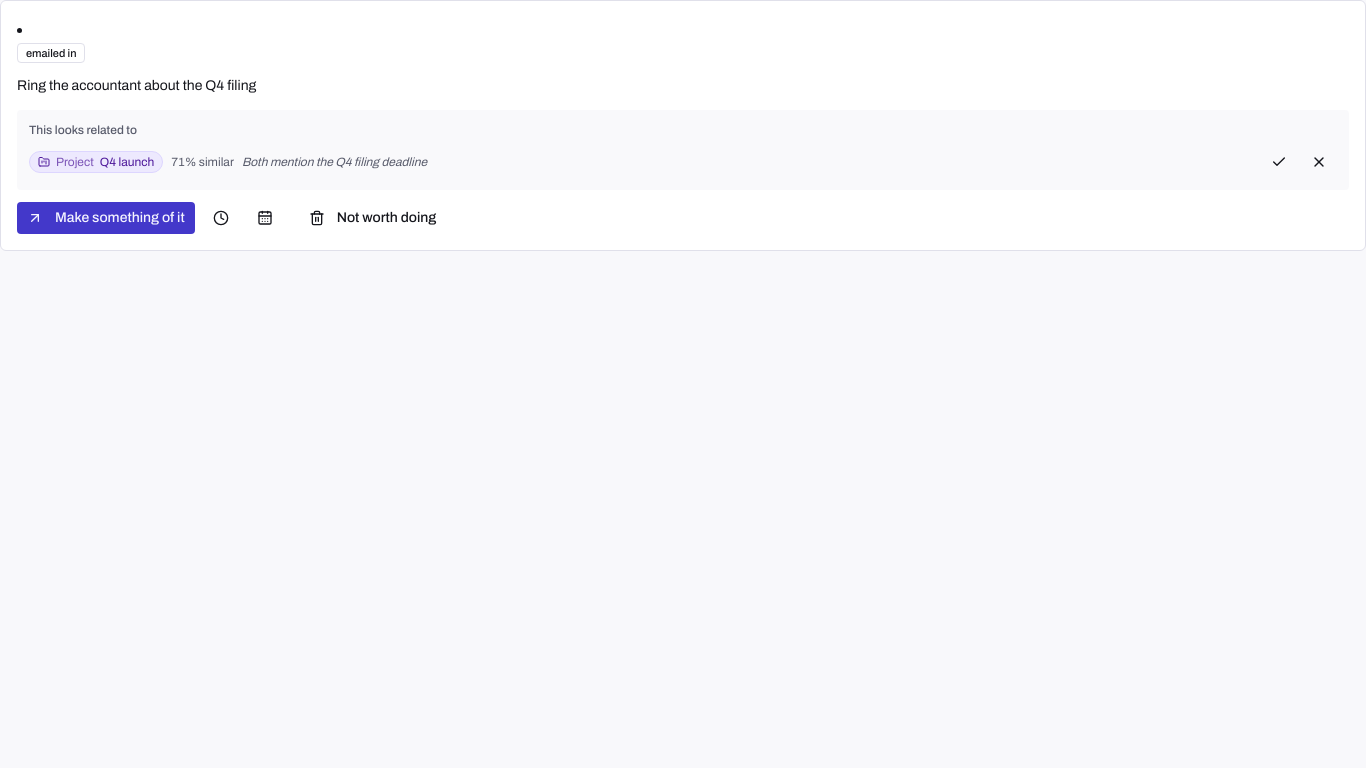
Test: ThoughtCard › opens the promote dialog from "Make something of it"
Check: the text "What is this?" is not shown
Click the button "Make something of it": click(106, 218) [17, 202, 195, 234]
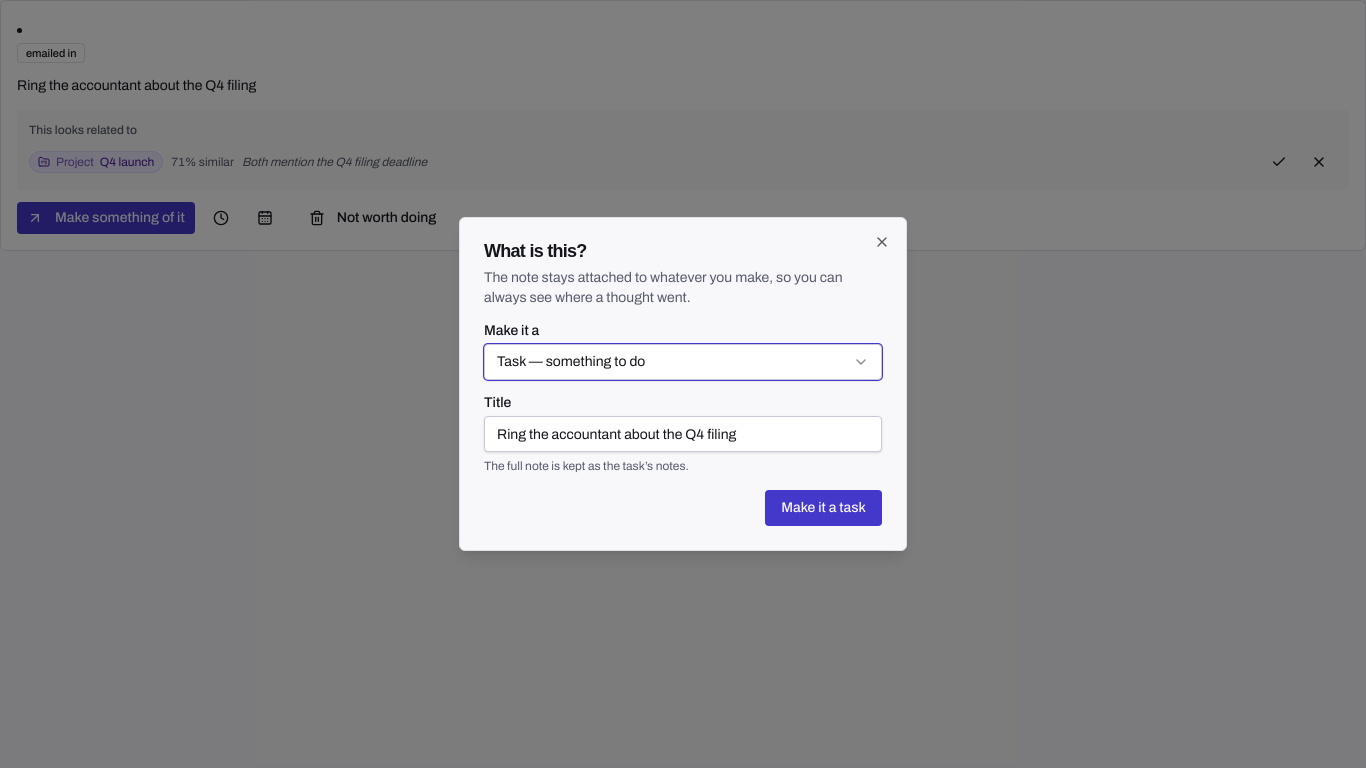
Check: the heading "What is this?" is shown, box [484, 241, 587, 261]
